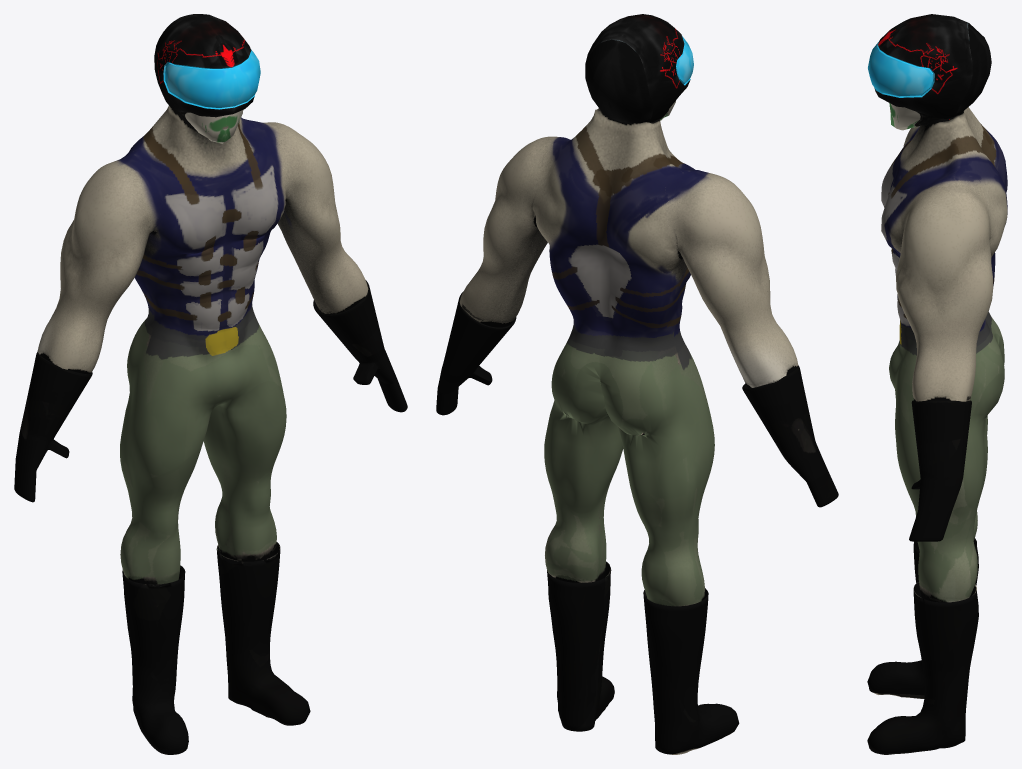
Rendered from scion_mesh.fbx.
The picture shows the model from 3 angles, left to right: view 1: azimuth 30°, elevation 25°; view 2: azimuth 150°, elevation 25°; view 3: azimuth 270°, elevation 25°; orthographic projection. The views are drawn at different scales.
Visible parts, largest first — view 1: Scion.LoPoly; view 2: Scion.LoPoly; view 3: Scion.LoPoly.
Part boxes in pixels (bbox=[...]): Scion.LoPoly: bbox=[14, 14, 407, 754]; Scion.LoPoly: bbox=[436, 14, 838, 754]; Scion.LoPoly: bbox=[867, 14, 1007, 754].
Size of the model in its own units: 1.15 by 2.01 by 0.3632.
